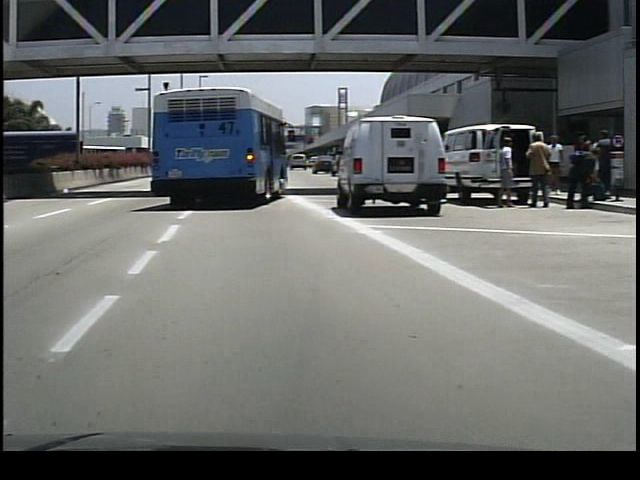person: (517, 130, 548, 212), (490, 133, 513, 211)
